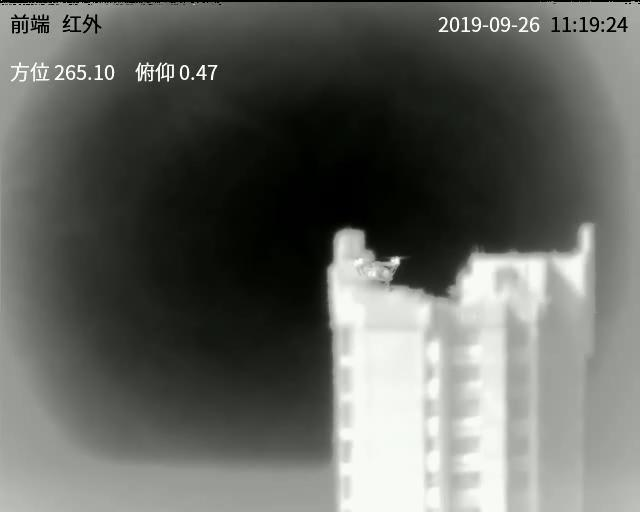uav: (351, 253, 408, 293)
